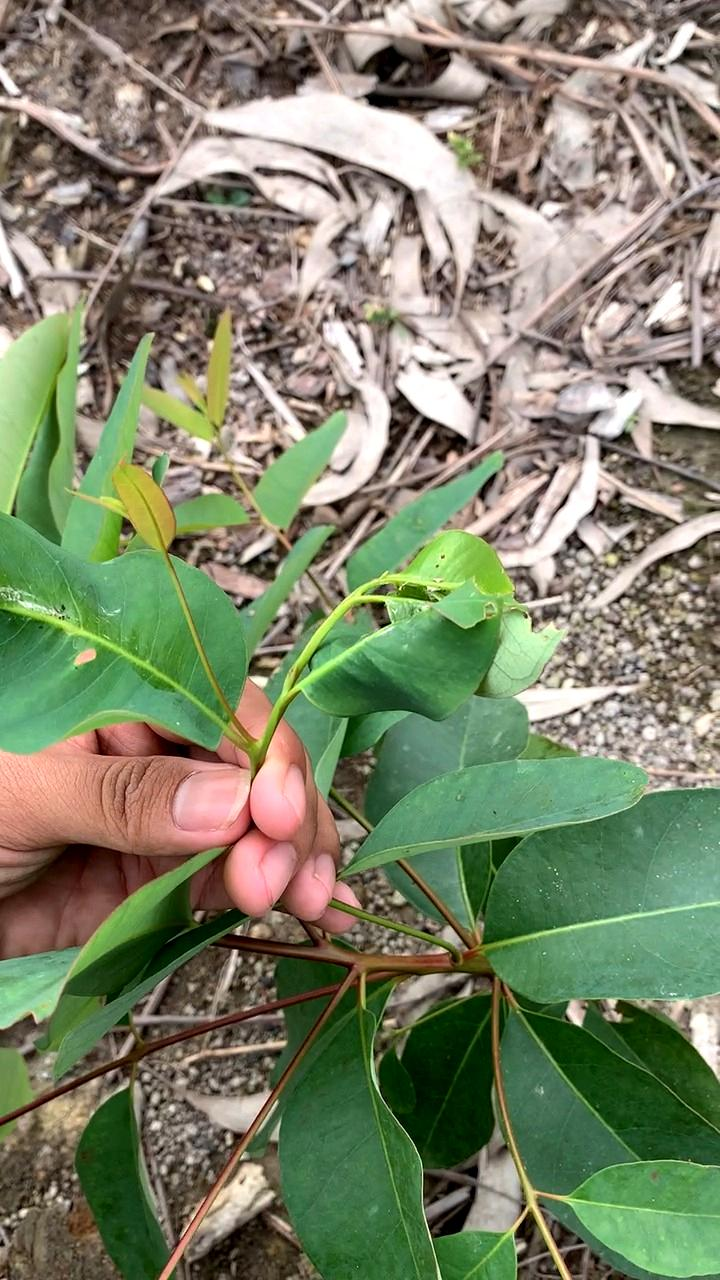Leaf Roller - Leaf: (271, 534, 574, 717)
